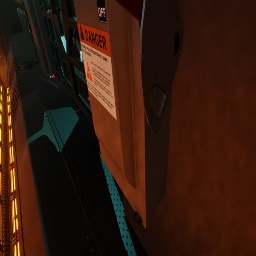EmergencyPhone ,: (22, 5, 32, 34)
SafetySwitchPanel ,: (73, 0, 184, 229)
